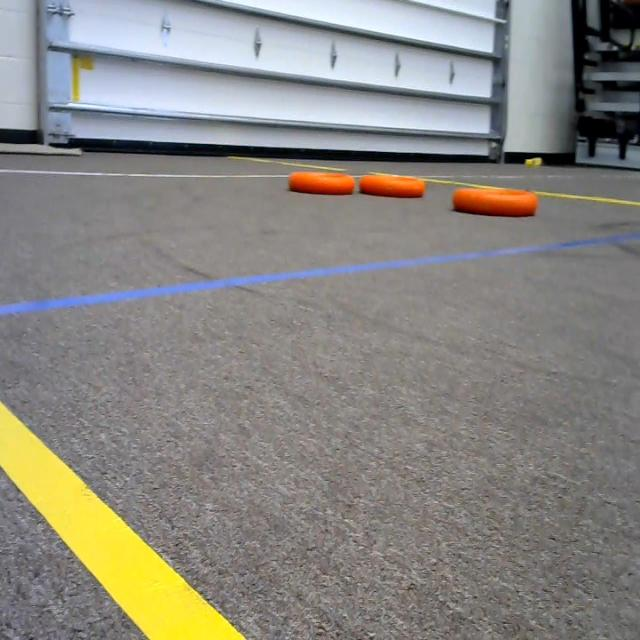note: (449, 178, 553, 218), (285, 155, 358, 208), (354, 158, 432, 207)
